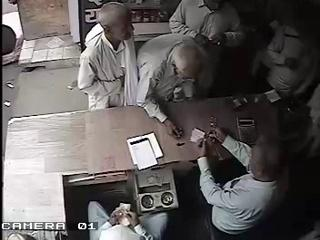Normal: (196, 120, 287, 240), (134, 33, 212, 136), (194, 0, 248, 98), (97, 204, 162, 240), (168, 0, 210, 37)
shoplifting: (76, 1, 138, 111)
